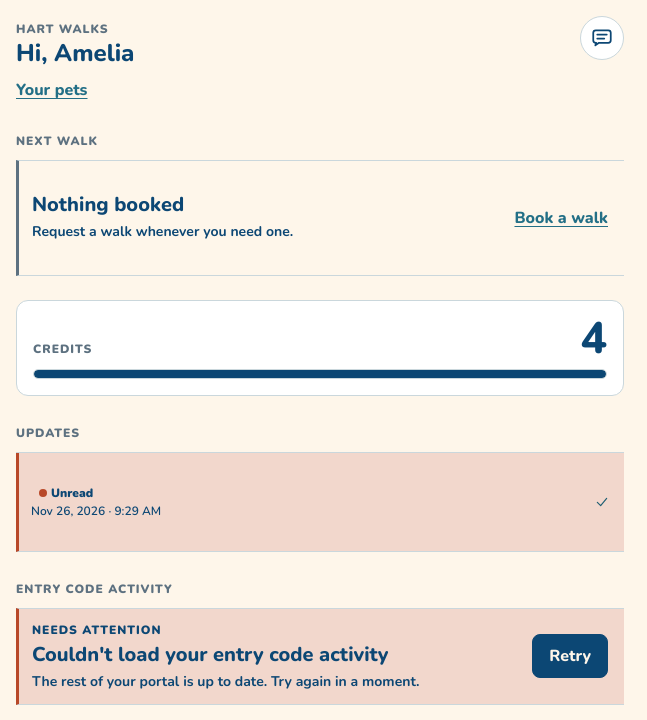
it: PortalHome's entry code activity › keeps the newest read when a Retry settles after a reload
Expected: the heading "Hi, Amelia" is shown, [16,40,134,68]
Click the button "Retry" at (570, 656), box [532,634,608,678]
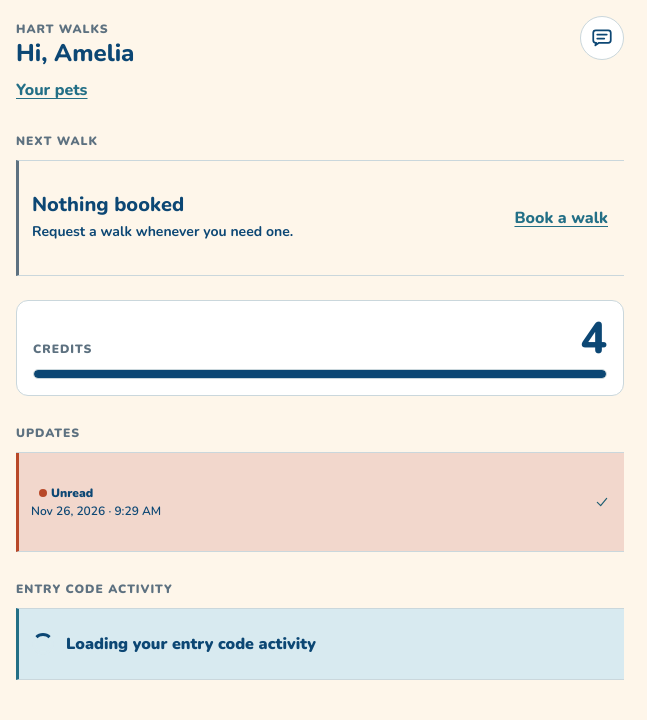
Now the text "Loading your entry code activity" is shown, box [66,633,316,655]
Click the button named "Mark read" at (602, 502), box [580,480,624,524]
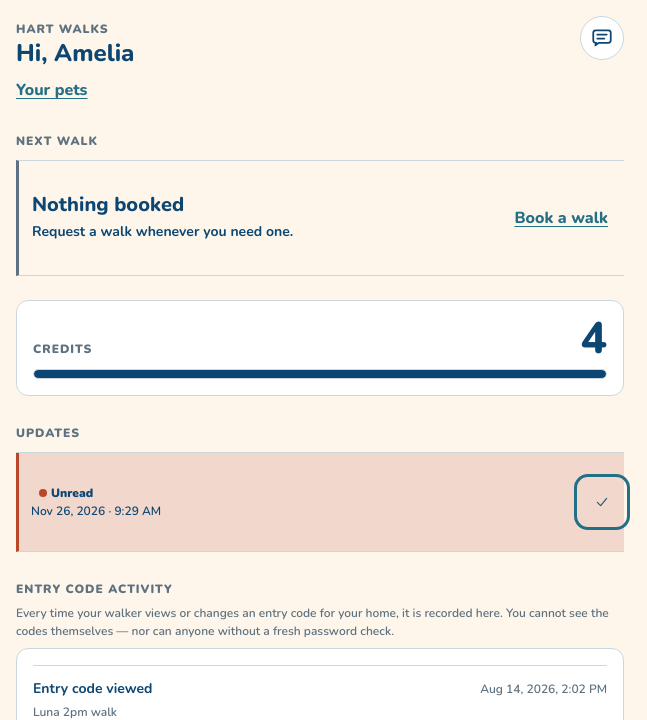
Expected: the text "Couldn't load your entry code activity" is not shown
Now the text "Luna 2pm walk" is shown, box [33,704,117,719]
